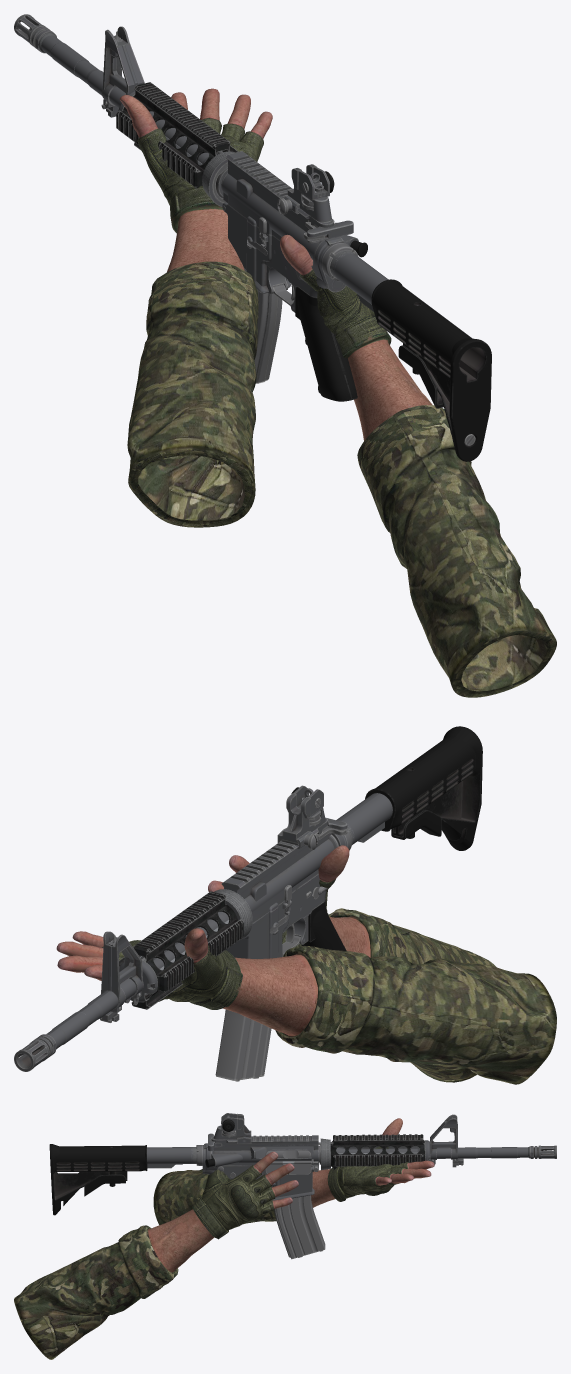
3 renders of one model, top to bottom at view 1: azimuth 30°, elevation 25°; view 2: azimuth 150°, elevation 25°; view 3: azimuth 270°, elevation 25°, orthographic. The views are drawn at different scales.
Visible parts, largest first — view 1: m4, armB, armA; view 2: m4, armB, armA; view 3: m4, armA, armB.
Boxes of the visible parts, x1,y1,x2,y2 form: m4: (14, 14, 491, 461); armB: (119, 88, 272, 527); armA: (280, 224, 556, 697); m4: (14, 726, 482, 1081); armB: (56, 928, 556, 1084); armA: (208, 845, 496, 1082); m4: (49, 1113, 556, 1259); armA: (14, 1151, 298, 1359); armB: (153, 1118, 434, 1224).
Bounding box in the file's own units: 0.3523 × 0.4418 × 0.9266.
3 materials, 3 textured.
